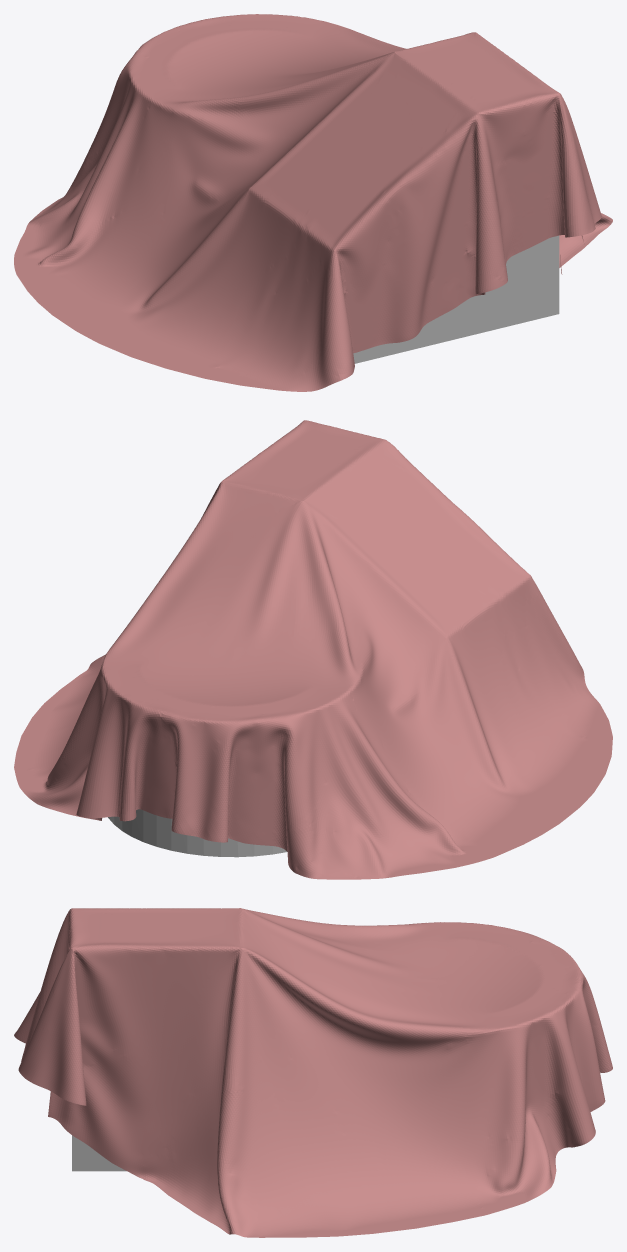
Rendered from level_4.glb.
The picture shows the model from 3 angles, top to bottom: view 1: azimuth 30°, elevation 25°; view 2: azimuth 150°, elevation 25°; view 3: azimuth 270°, elevation 25°; orthographic projection.
Visible parts, largest first — view 1: world, object.obj; view 2: world, object.obj; view 3: world, object.obj.
Boxes of the visible parts, left/top/right/bottom form: world: left=14, top=14, right=612, bottom=391; object.obj: left=353, top=235, right=559, bottom=363; world: left=14, top=420, right=612, bottom=879; object.obj: left=108, top=809, right=286, bottom=857; world: left=14, top=908, right=612, bottom=1237; object.obj: left=72, top=1135, right=126, bottom=1171.
Bounding box in the file's own units: 0.4576 × 0.1885 × 0.4553.
